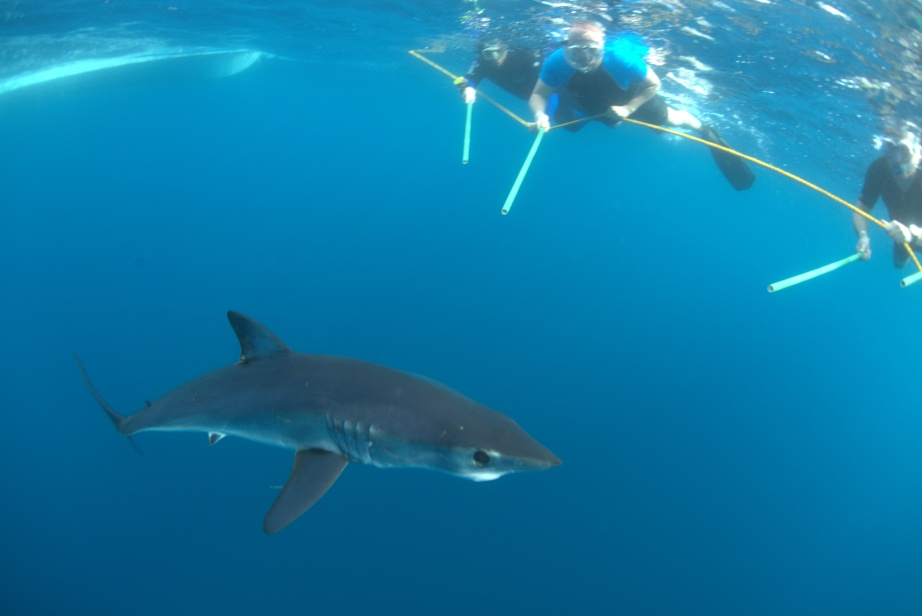Mako: (45, 299, 573, 544)
